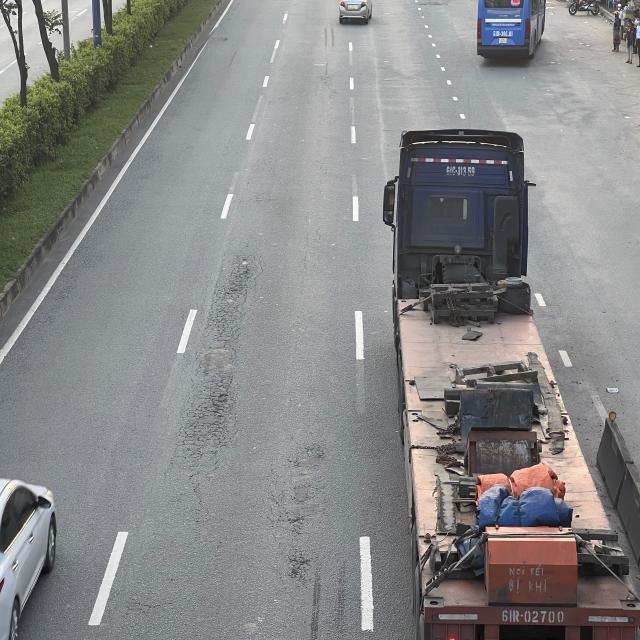car: (0, 477, 58, 640)
coach: (477, 0, 548, 59)
container: (380, 128, 638, 640)
